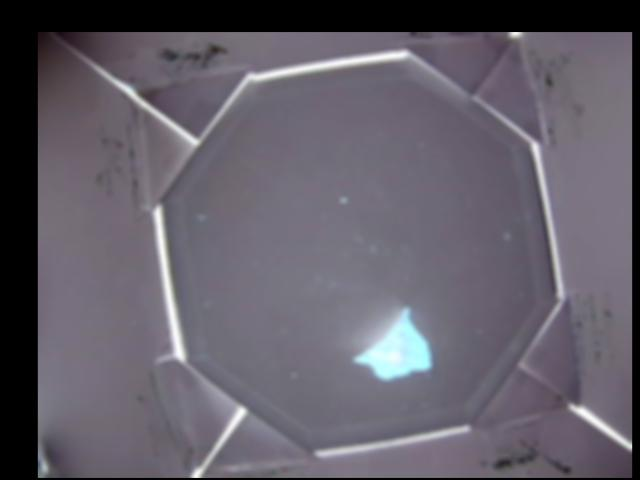Brisk: (355, 307, 432, 377)
